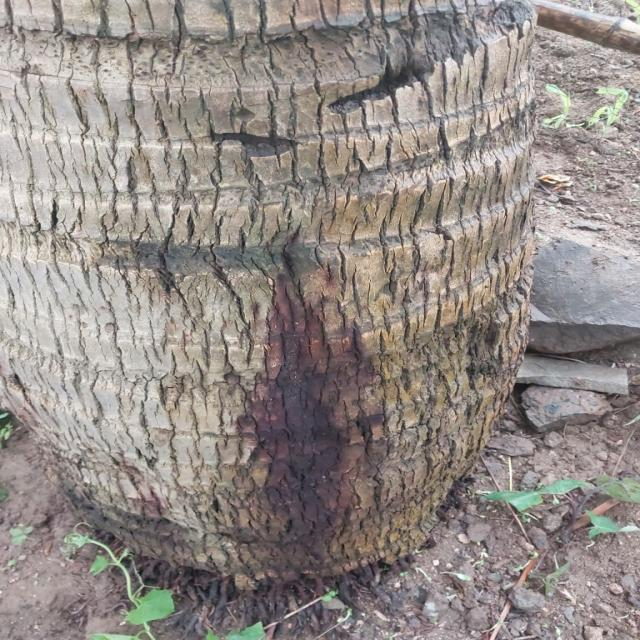stembleeding: (198, 242, 402, 553)
